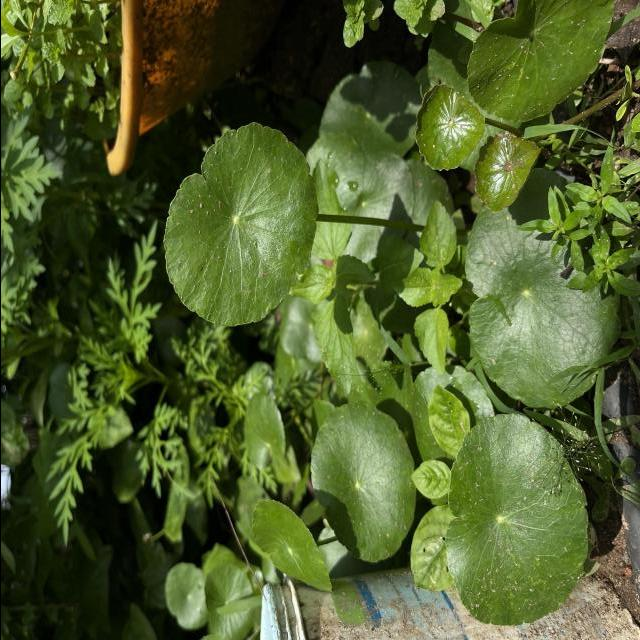Bacopa monnieri: (160, 120, 319, 330), (442, 411, 589, 629), (464, 0, 615, 125), (308, 399, 416, 566), (248, 498, 332, 594), (412, 82, 486, 172), (470, 130, 543, 214)
